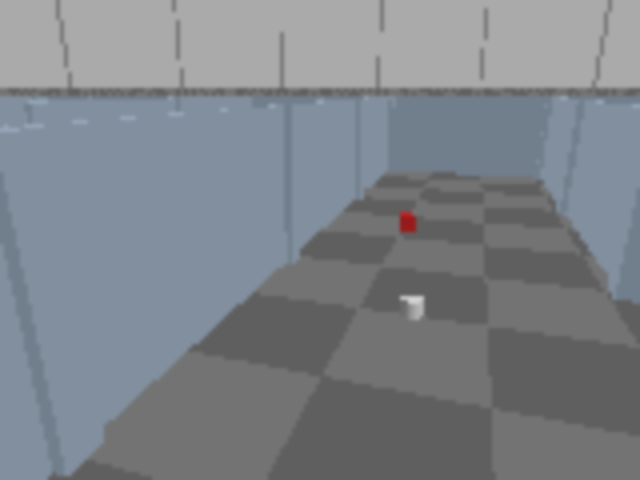puck: (401, 295, 423, 318), (400, 213, 415, 230)
